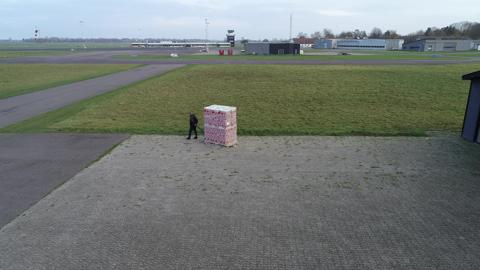RockwoolPallet: (204, 104, 239, 148)
